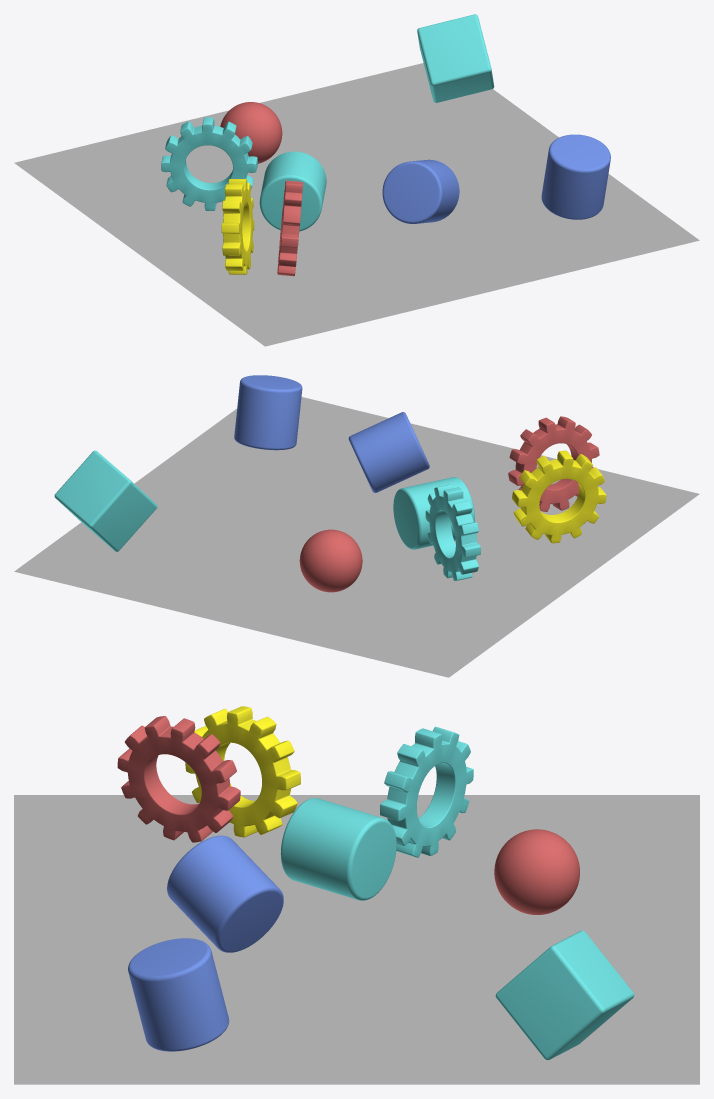
3 renders of one model, top to bottom at view 1: azimuth 30°, elevation 25°; view 2: azimuth 150°, elevation 25°; view 3: azimuth 270°, elevation 25°, orthographic. The views are drawn at different scales.
Parts seen in each view (by area): view 1: Cube, FileBasedObject.002, FileBasedObject.001, FileBasedObject.006, FileBasedObject.005, FileBasedObject.003, FileBasedObject.004, FileBasedObject, FileBasedObject.007; view 2: Cube, FileBasedObject.002, FileBasedObject.004, FileBasedObject.001, FileBasedObject.005, FileBasedObject.006, FileBasedObject.007, FileBasedObject, FileBasedObject.003; view 3: Cube, FileBasedObject.002, FileBasedObject.007, FileBasedObject.003, FileBasedObject.005, FileBasedObject.001, FileBasedObject.006, FileBasedObject.004, FileBasedObject.
Part boxes in pixels (bbox=[...]): Cube: bbox=[14, 63, 699, 346]; FileBasedObject.002: bbox=[417, 14, 494, 102]; FileBasedObject.001: bbox=[541, 134, 610, 219]; FileBasedObject.006: bbox=[161, 117, 257, 211]; FileBasedObject.005: bbox=[382, 159, 459, 223]; FileBasedObject.003: bbox=[259, 151, 326, 231]; FileBasedObject.004: bbox=[221, 179, 254, 274]; FileBasedObject: bbox=[220, 102, 282, 163]; FileBasedObject.007: bbox=[277, 180, 302, 276]; Cube: bbox=[14, 397, 699, 677]; FileBasedObject.002: bbox=[54, 450, 157, 551]; FileBasedObject.004: bbox=[512, 450, 606, 543]; FileBasedObject.001: bbox=[234, 375, 302, 450]; FileBasedObject.005: bbox=[348, 412, 429, 492]; FileBasedObject.006: bbox=[425, 484, 480, 580]; FileBasedObject.007: bbox=[508, 416, 599, 511]; FileBasedObject: bbox=[299, 529, 362, 592]; FileBasedObject.003: bbox=[393, 477, 474, 549]; Cube: bbox=[14, 795, 699, 1084]; FileBasedObject.002: bbox=[495, 930, 634, 1060]; FileBasedObject.007: bbox=[117, 716, 240, 842]; FileBasedObject.003: bbox=[280, 798, 396, 900]; FileBasedObject.005: bbox=[167, 835, 283, 952]; FileBasedObject.001: bbox=[128, 938, 229, 1051]; FileBasedObject.006: bbox=[380, 726, 473, 857]; FileBasedObject.004: bbox=[185, 706, 300, 837]; FileBasedObject: bbox=[494, 829, 579, 914].
Bounding box in the file's own units: 8 × 1.7 × 8.
